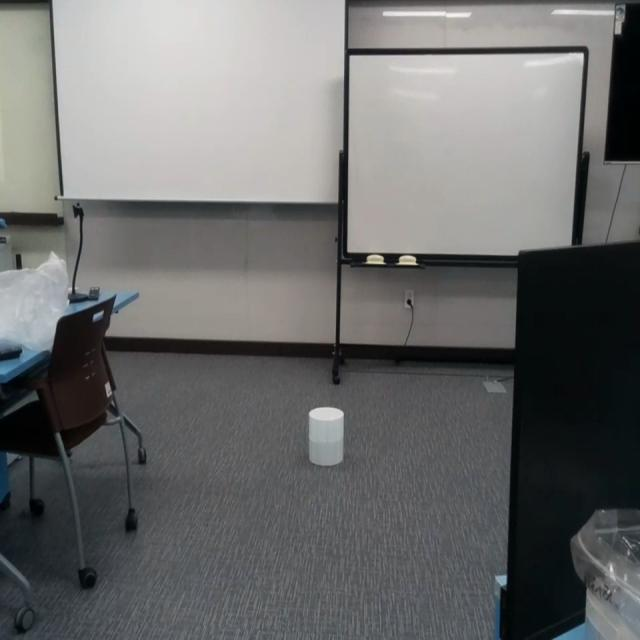cylinder: (308, 406, 345, 466)
